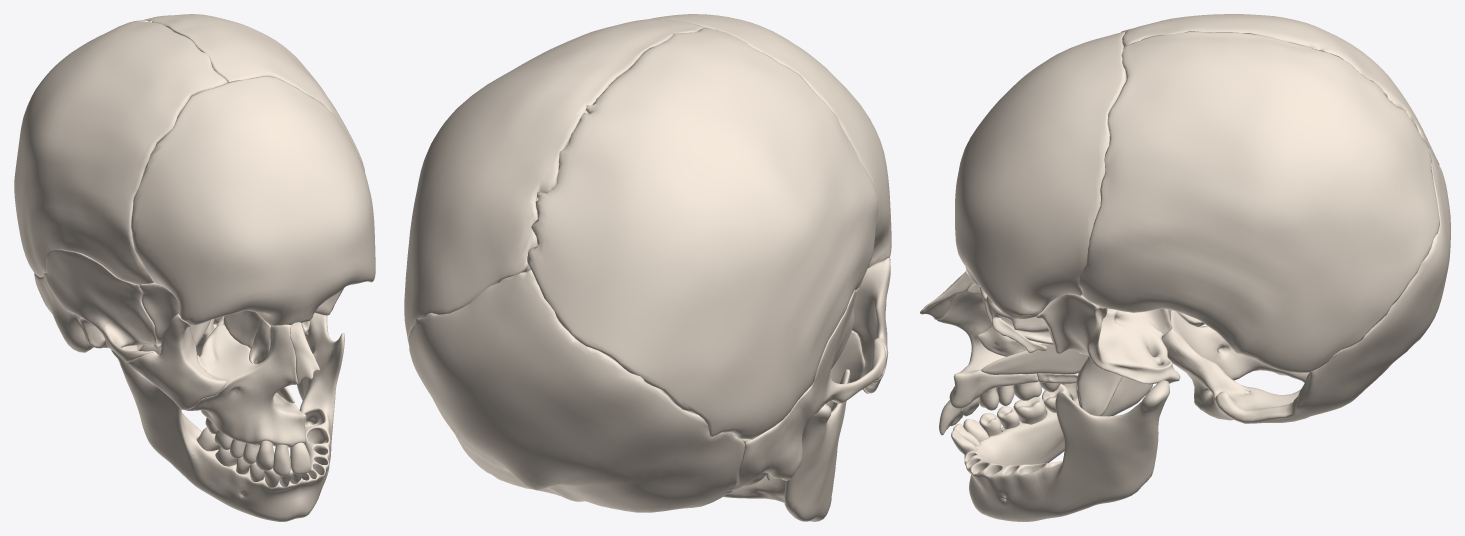
File: open3dmodel-overview-skull.glb
3 views of the same model, side by side, from view 1: azimuth 30°, elevation 25°; view 2: azimuth 150°, elevation 25°; view 3: azimuth 270°, elevation 25° (orthographic). The views are drawn at different scales.
Visible parts, largest first — view 1: Frontal bone, Parietal bone right, Mandible bone, Maxilla bone.r, Temporal bone.r, Parietal bone left, Zygomatic bone.r, Sphenoid bone, Ethmoid Bone, Nasal bone.r, Lacrimal bone.r, Upper medial incisor.r (+2 smaller); view 2: Parietal bone right, Occipital bone, Parietal bone left, Frontal bone, Temporal bone.r, Mandible bone, Zygomatic bone.r, Maxilla bone.r; view 3: Parietal bone left, Frontal bone, Mandible bone, Occipital bone, Sphenoid bone, Parietal bone right, Maxilla bone.r, Vomer, Ethmoid Bone, Nasal bone.r, Inferior nasal concha bone.r, Lower first molar tooth.r.
Boxes of the visible parts, left/top/right/bottom form: Frontal bone: left=131, top=76, right=375, bottom=325; Parietal bone right: left=14, top=20, right=227, bottom=284; Mandible bone: left=111, top=313, right=344, bottom=521; Maxilla bone.r: left=185, top=324, right=306, bottom=447; Temporal bone.r: left=34, top=249, right=156, bottom=362; Parietal bone left: left=143, top=14, right=365, bottom=172; Zygomatic bone.r: left=128, top=313, right=227, bottom=409; Sphenoid bone: left=139, top=282, right=343, bottom=356; Ethmoid Bone: left=223, top=310, right=309, bottom=348; Nasal bone.r: left=290, top=322, right=319, bottom=383; Lacrimal bone.r: left=249, top=319, right=270, bottom=363; Upper medial incisor.r: left=290, top=442, right=311, bottom=474; Parietal bone right: left=527, top=28, right=878, bottom=439; Occipital bone: left=408, top=269, right=744, bottom=512; Parietal bone left: left=404, top=19, right=703, bottom=343; Frontal bone: left=649, top=14, right=891, bottom=267; Temporal bone.r: left=728, top=287, right=886, bottom=491; Mandible bone: left=723, top=369, right=850, bottom=521; Zygomatic bone.r: left=852, top=258, right=890, bottom=393; Maxilla bone.r: left=826, top=330, right=868, bottom=409; Parietal bone left: left=1078, top=31, right=1439, bottom=372; Frontal bone: left=955, top=31, right=1126, bottom=318; Mandible bone: left=964, top=373, right=1169, bottom=521; Occipital bone: left=1162, top=147, right=1450, bottom=423; Sphenoid bone: left=1036, top=294, right=1180, bottom=415; Parietal bone right: left=1121, top=14, right=1439, bottom=165; Maxilla bone.r: left=937, top=284, right=1038, bottom=408; Vomer: left=981, top=343, right=1088, bottom=374; Ethmoid Bone: left=966, top=283, right=1076, bottom=352; Nasal bone.r: left=920, top=270, right=972, bottom=319; Inferior nasal concha bone.r: left=977, top=326, right=1042, bottom=356; Lower first molar tooth.r: left=1013, top=396, right=1046, bottom=424.
Bounding box in the file's own units: 0.1485 × 0.2013 × 0.2038.
